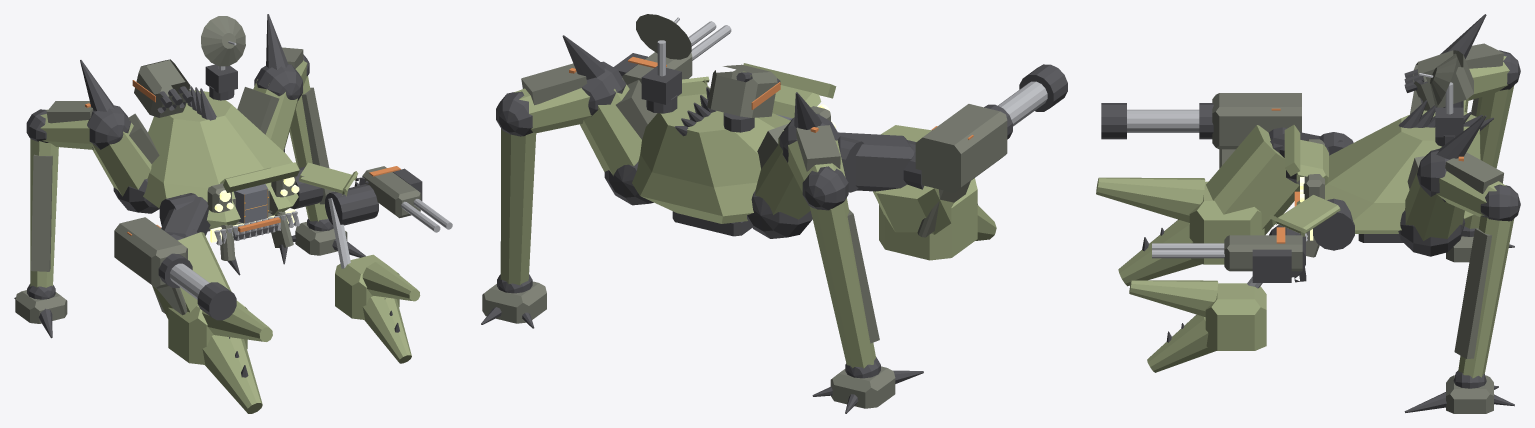
Rendered from tyrant.glb.
3 renders of one model, left to right at view 1: azimuth 30°, elevation 25°; view 2: azimuth 150°, elevation 25°; view 3: azimuth 270°, elevation 25°, orthographic. The views are drawn at different scales.
Parts seen in each view (by area): view 1: carapace, howitzer-1_rec, finger-1, missiles-1, tarsus0-1_top, femur0-1, palm-1, finger1, palm1, radar1_dish, fore-1, tarsus0-1 (+34 smaller); view 2: carapace, howitzer-1_rec, tarsus0-1, tarsus01, palm-1, fore-1, upper-1, femur01, missiles-1, femur0-1, tibia01, heel0-1 (+24 smaller); view 3: carapace, fore-1, howitzer-1_rec, palm1, dactyl-1, tarsus01, palm-1, tarsus01_top, dactyl1, femur01, finger-1, missiles-1 (+31 smaller).
Boxes of the visible parts, x1,y1,x2,y2 form: carapace: (143, 90, 298, 228); howitzer-1_rec: (114, 217, 187, 288); finger-1: (202, 335, 262, 413); missiles-1: (134, 59, 193, 117); tarsus0-1_top: (31, 154, 52, 271); femur0-1: (92, 122, 151, 196); palm-1: (168, 300, 247, 364); finger1: (362, 296, 411, 363); palm1: (335, 254, 399, 319); radar1_dish: (201, 16, 245, 66); fore-1: (152, 232, 231, 318); tarsus0-1: (30, 139, 58, 287); carapace: (632, 93, 790, 223); howitzer-1_rec: (915, 104, 1007, 192); tarsus0-1: (809, 198, 875, 368); tarsus01: (500, 128, 536, 285); palm-1: (879, 178, 977, 260); fore-1: (873, 125, 953, 234); upper-1: (838, 132, 914, 191); femur01: (580, 78, 641, 175); missiles-1: (707, 64, 780, 117); femur0-1: (755, 130, 810, 219); tibia01: (514, 88, 591, 133); heel0-1: (830, 366, 895, 408); carapace: (1296, 110, 1480, 233); fore-1: (1206, 125, 1299, 235); howitzer-1_rec: (1212, 93, 1301, 149); palm1: (1205, 283, 1266, 350); dactyl-1: (1096, 177, 1205, 222); tarsus01: (1458, 215, 1513, 378); palm-1: (1189, 181, 1264, 264); tarsus01_top: (1454, 228, 1491, 358); dactyl1: (1129, 280, 1218, 316); femur01: (1405, 170, 1464, 240); finger-1: (1118, 220, 1202, 286); missiles-1: (1404, 50, 1473, 110).
Size of the model in its own units: 23.03 by 18.01 by 23.89.
